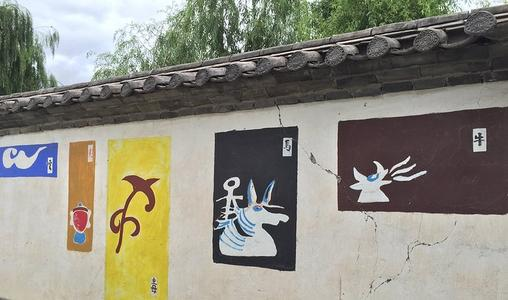chinese: (471, 126, 490, 153), (282, 130, 298, 160)
naxi: (215, 170, 294, 264), (109, 168, 159, 255), (344, 153, 426, 204), (2, 144, 56, 177), (70, 199, 94, 245)
